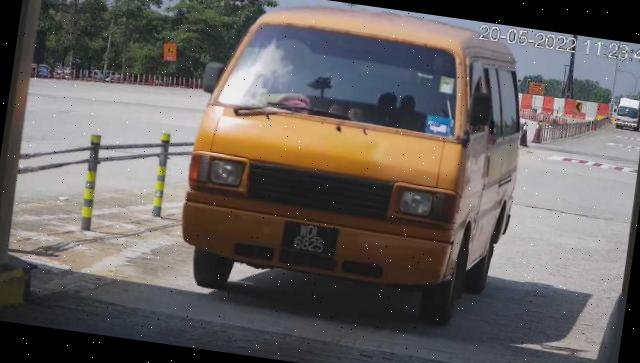License_Plate: (279, 217, 343, 261)
van: (174, 1, 539, 332)
